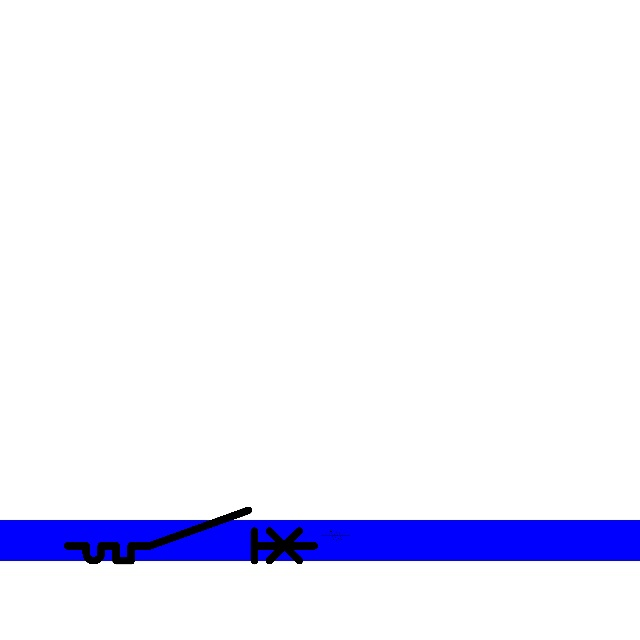interruptor_termomagnetico: (61, 504, 320, 567)
